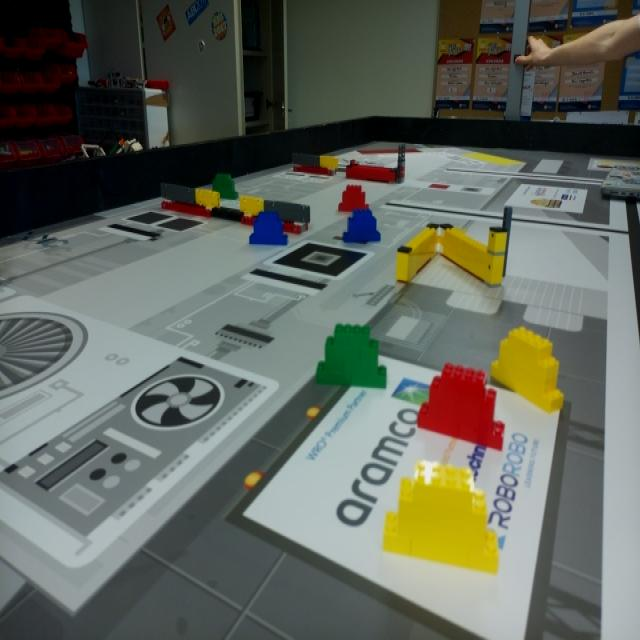blau: (250, 213, 288, 245), (344, 211, 380, 243)
gruen: (318, 323, 386, 388), (213, 175, 239, 201)
rot: (418, 366, 503, 452), (339, 188, 371, 213)
yellow: (384, 460, 501, 579), (491, 327, 566, 410)
